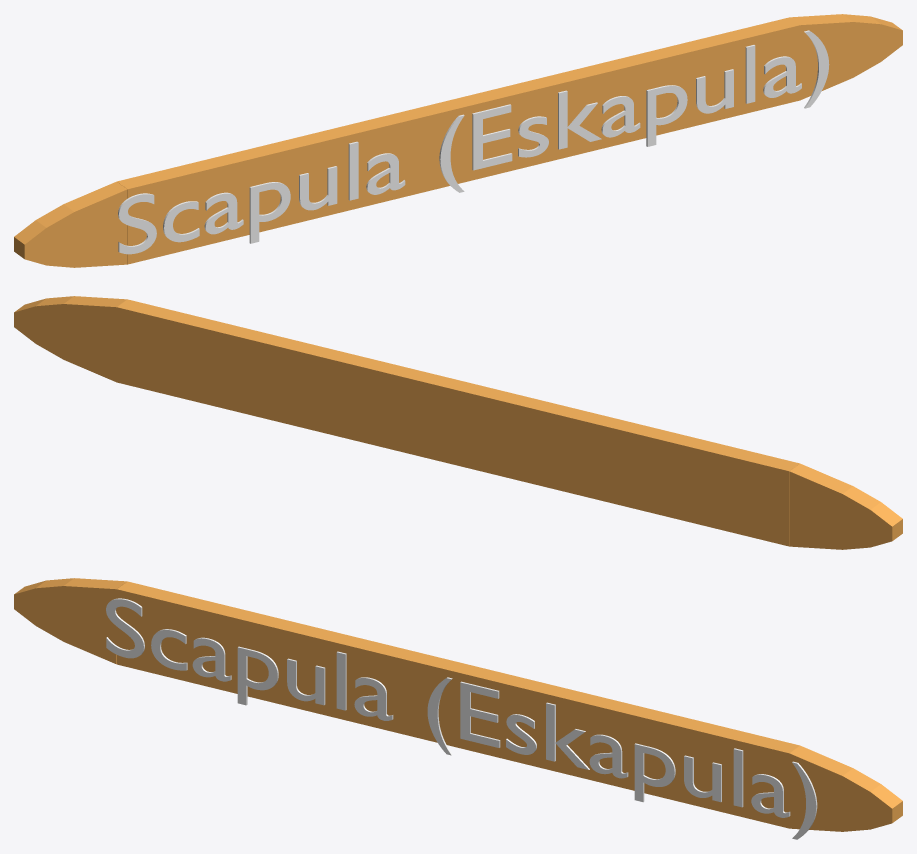
File: txtScapula.fbx
The picture shows the model from 3 angles, top to bottom: view 1: azimuth 30°, elevation 25°; view 2: azimuth 150°, elevation 25°; view 3: azimuth 330°, elevation 25°; orthographic projection.
Visible parts, largest first — view 1: TagContainer.049, Text.050; view 2: TagContainer.049; view 3: TagContainer.049, Text.050.
Part boxes in pixels (<box>): TagContainer.049: <box>14,14,902,267</box>; Text.050: <box>118,30,829,254</box>; TagContainer.049: <box>14,296,902,549</box>; TagContainer.049: <box>14,578,902,831</box>; Text.050: <box>106,598,817,839</box>.
Size of the model in its own units: 504 by 45.81 by 11.79.
